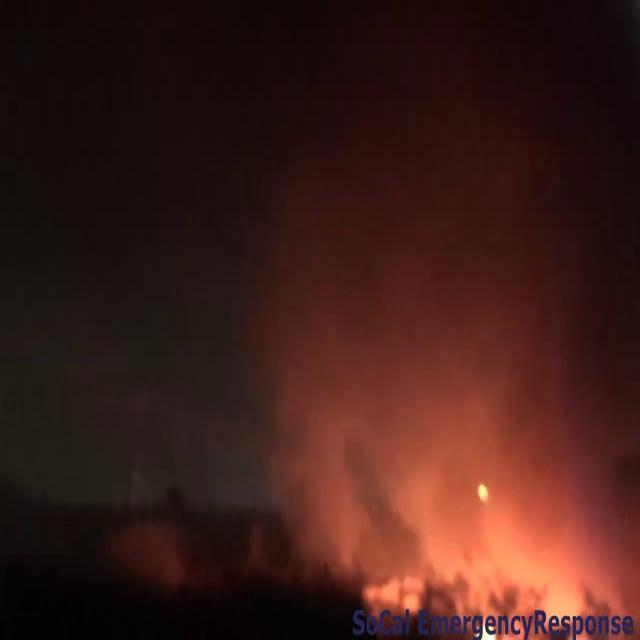Fire: (368, 486, 624, 630)
Smoke: (218, 4, 640, 613)
